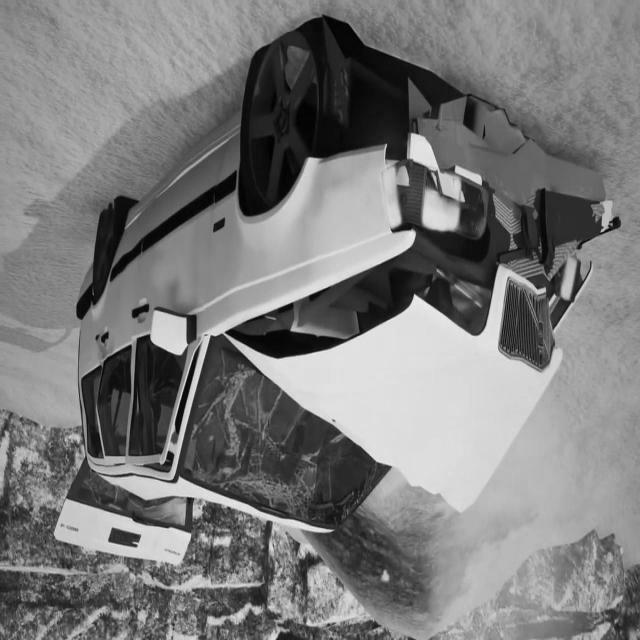severe: (50, 11, 616, 572)
